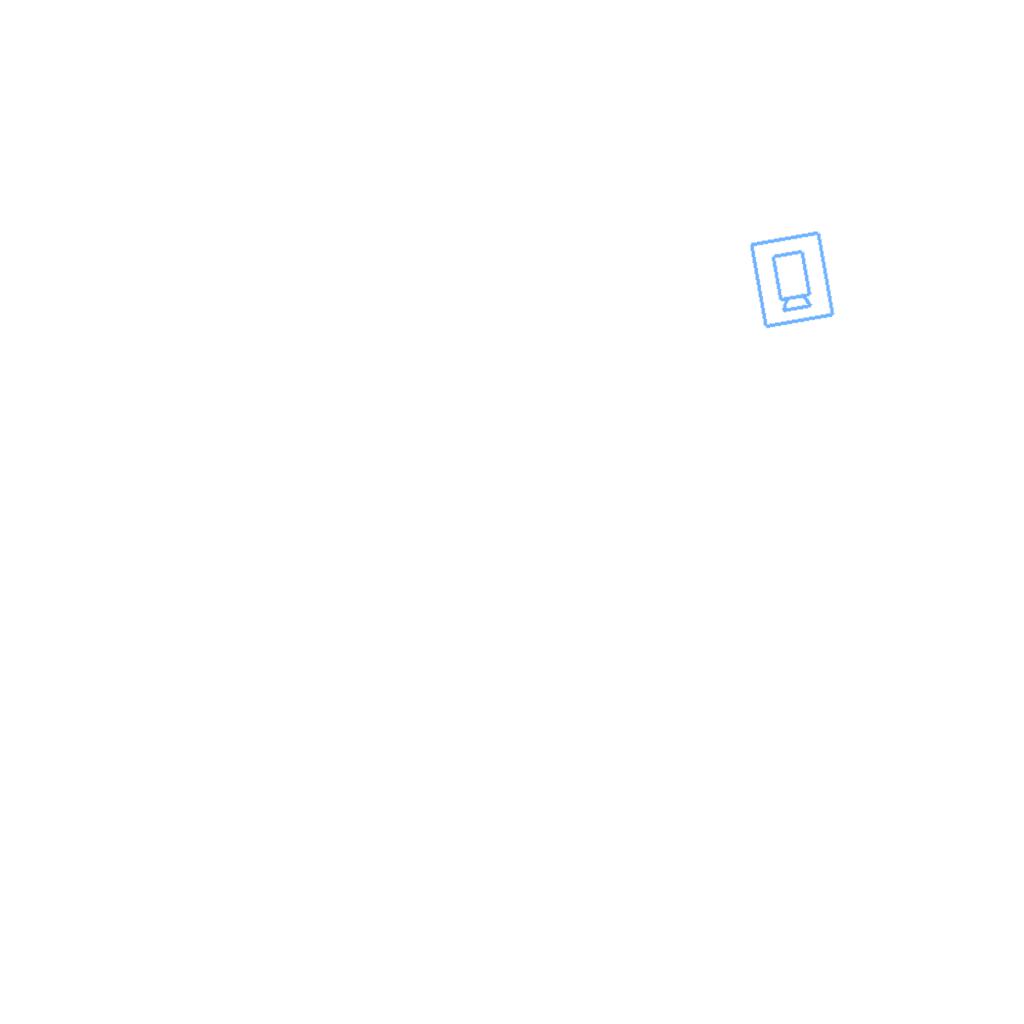KFO_Kamera_mit_Festobjektiv: (745, 228, 838, 331)
